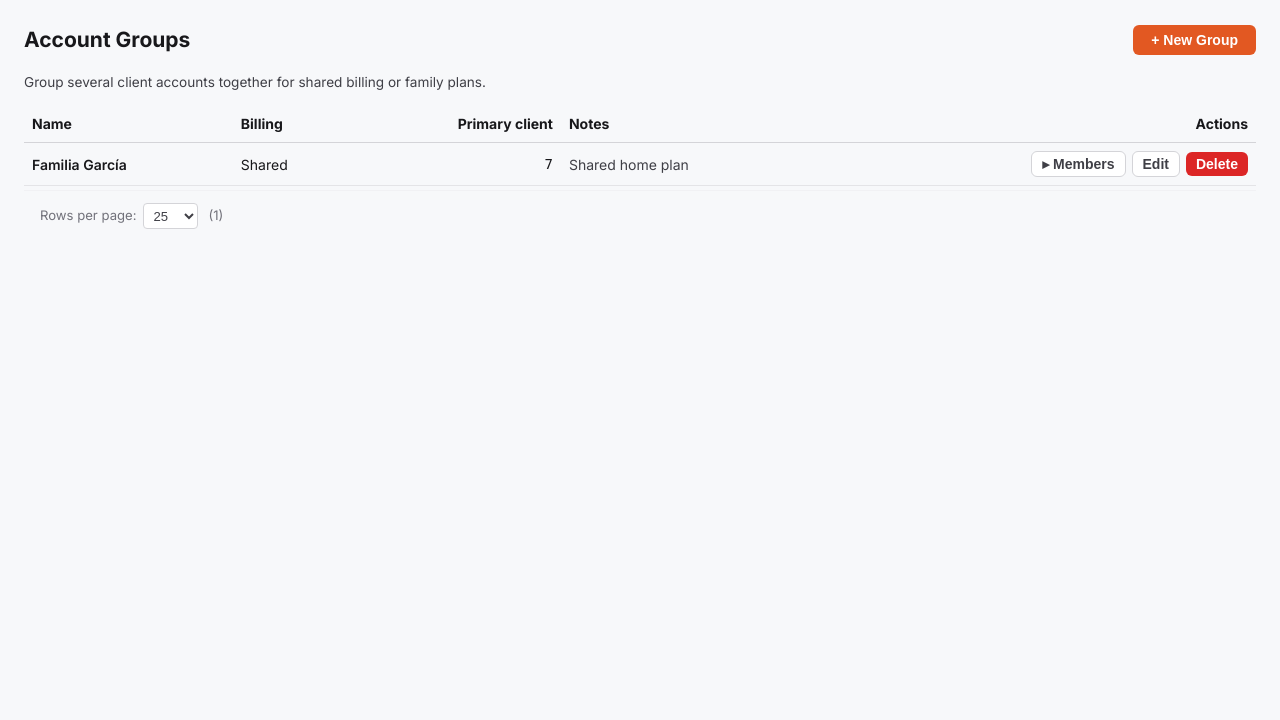
it: ClientGroupList page › primary is chosen by client search in the group form (not a raw id)
The image size is (1280, 720).
Expected: the text "Familia García" is shown, x1=24 y1=143 x2=233 y2=186
Click the button "+ New Group" at (1195, 40), box x1=1133 y1=25 x2=1256 y2=55
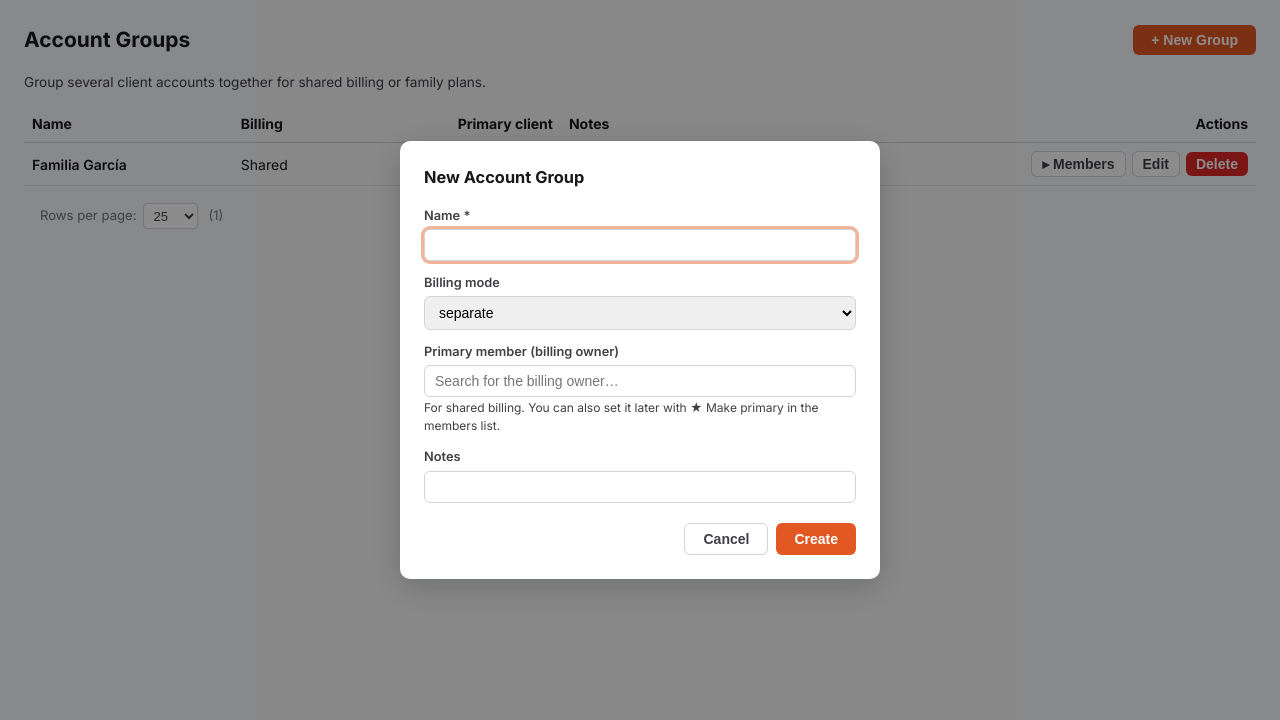
Type "Car" into the field with placeholder "Search for the billing owner…" at (640, 382), box x1=424 y1=366 x2=856 y2=398
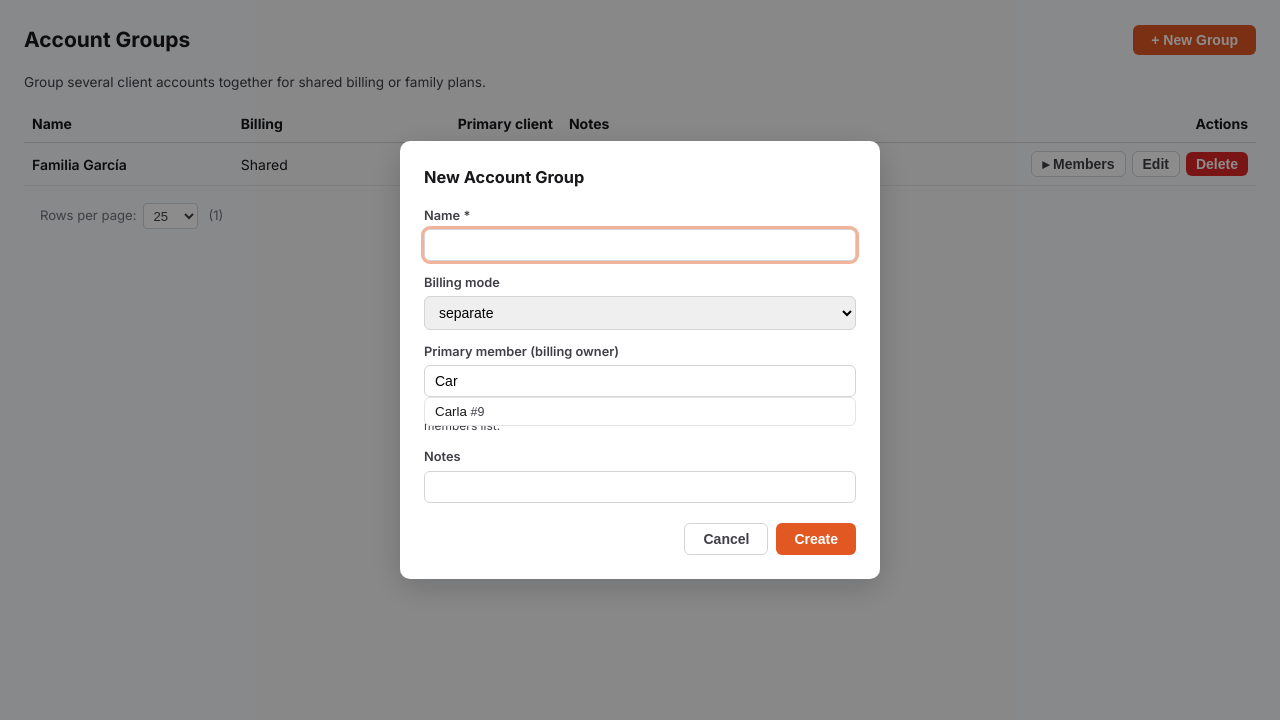
Expected: the button "Carla #9" is shown, x1=425 y1=398 x2=855 y2=426
